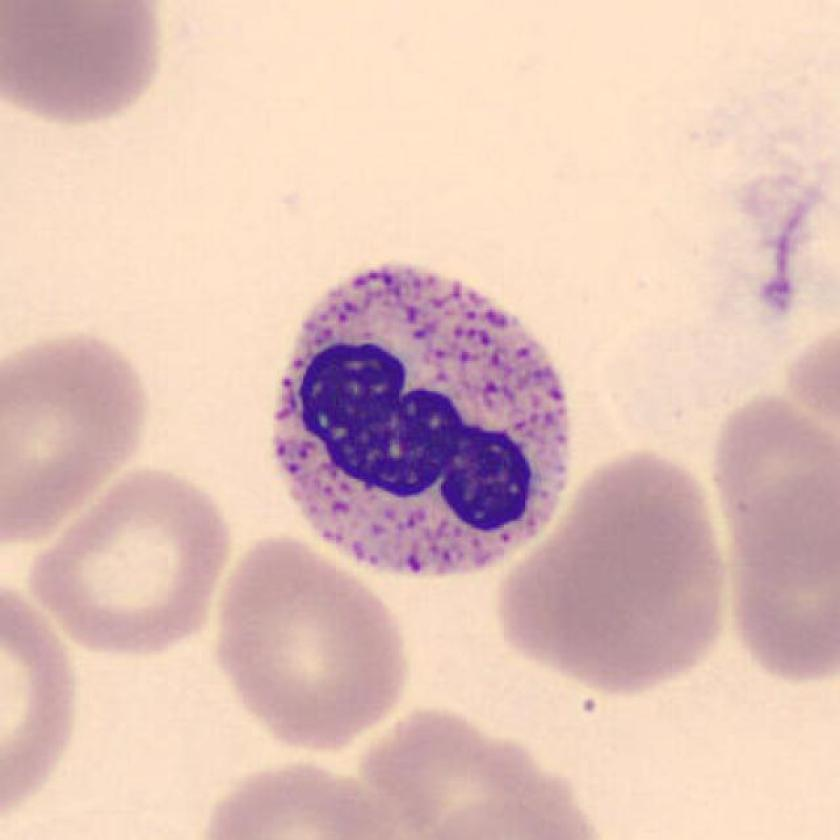neutrophil: (271, 262, 568, 575)
